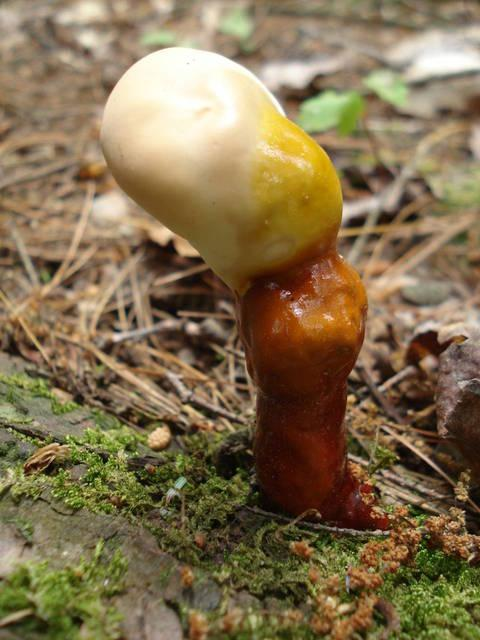Non-edible Mushroom: (97, 45, 391, 531)
